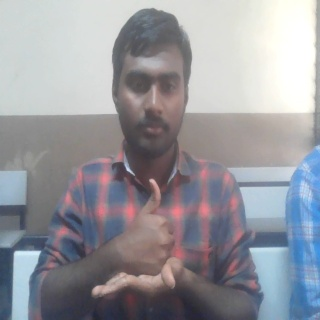Face: (110, 6, 194, 162)
Help: (86, 176, 184, 303)
